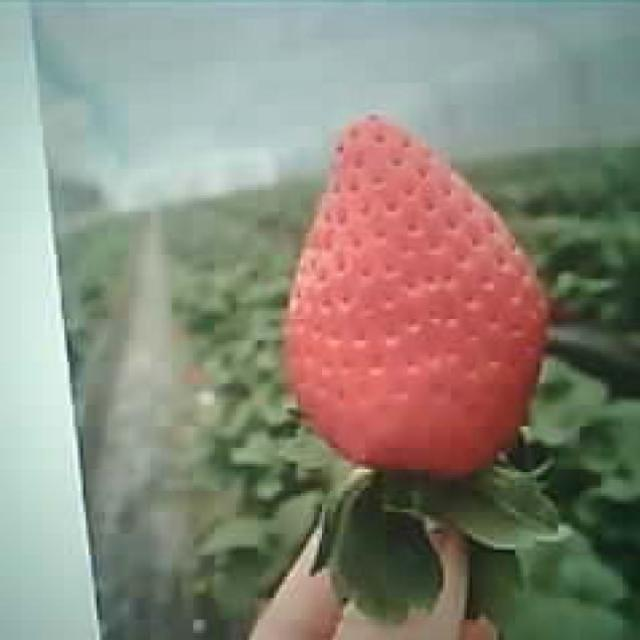Healthy Fruit: (279, 111, 551, 477)
